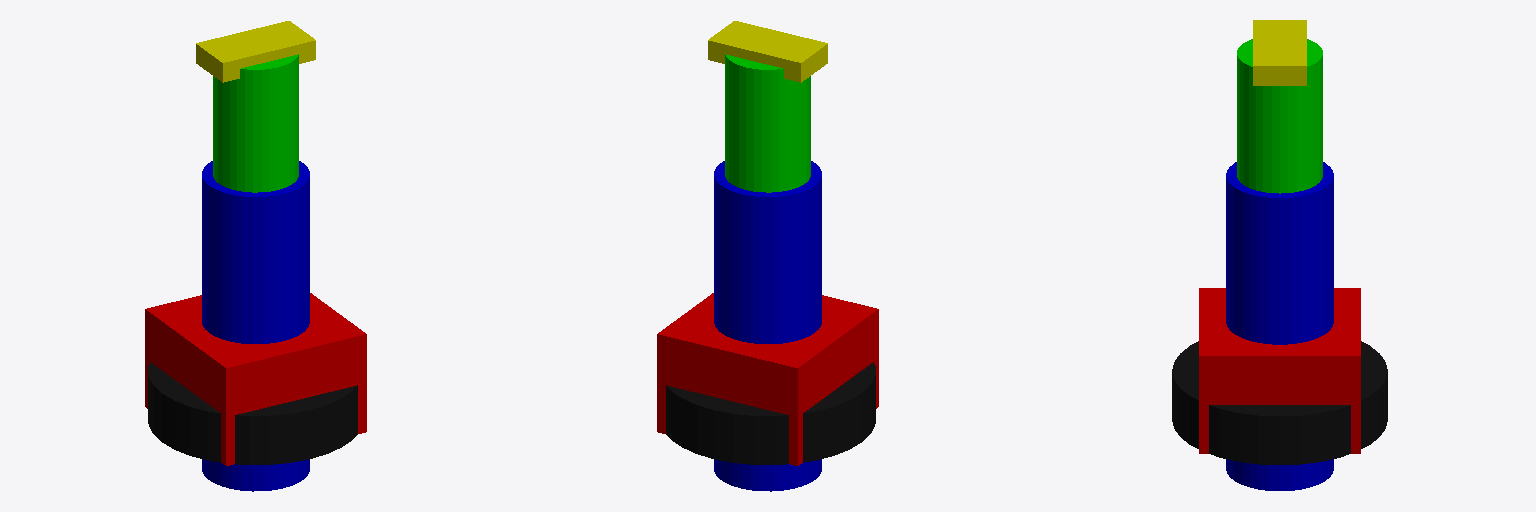
URDF robot description (5dof_robotic_arm):
<?xml version="1.0"?>
<robot name="5dof_robotic_arm">

  <!-- BASE (Rotates) -->
  <link name="base_link">
    <visual>
      <geometry>
        <cylinder radius="0.1" length="0.05"/>
      </geometry>
      <material name="black">
        <color rgba="0.1 0.1 0.1 1"/>
      </material>
    </visual>
    <collision>
      <geometry>
        <cylinder radius="0.1" length="0.05"/>
      </geometry>
    </collision>
    <inertial>
      <mass value="2.0"/>
      <inertia ixx="0.01" ixy="0" ixz="0" iyy="0.01" iyz="0" izz="0.01"/>
    </inertial>
  </link>

  <!-- JOINT 1: Base Rotation -->
  <joint name="base_joint" type="revolute">
    <parent link="base_link"/>
    <child link="joint1_link"/>
    <axis xyz="0 0 1"/> <!-- Z-axis rotation -->
    <limit lower="-3.14" upper="3.14" effort="10" velocity="1.0"/>
    <origin xyz="0 0 0.025" rpy="0 0 0"/>
  </joint>

  <!-- JOINT 1 LINK -->
  <link name="joint1_link">
    <visual>
      <geometry>
        <box size="0.15 0.15 0.1"/>
      </geometry>
      <material name="red">
        <color rgba="0.8 0 0 1"/>
      </material>
    </visual>
    <collision>
      <geometry>
        <box size="0.15 0.15 0.1"/>
      </geometry>
    </collision>
    <inertial>
      <mass value="0.5"/>
      <inertia ixx="0.001" ixy="0" ixz="0" iyy="0.001" iyz="0" izz="0.001"/>
    </inertial>
  </link>

  <!-- JOINT 2: Shoulder -->
  <joint name="joint2" type="revolute">
    <parent link="joint1_link"/>
    <child link="joint2_link"/>
    <axis xyz="0 1 0"/> <!-- Y-axis rotation -->
    <limit lower="-1.57" upper="1.57" effort="10" velocity="1.0"/>
    <origin xyz="0 0 0.05" rpy="0 0 0"/>
  </joint>

  <!-- JOINT 2 LINK -->
  <link name="joint2_link">
    <visual>
      <geometry>
        <cylinder radius="0.05" length="0.3"/>
      </geometry>
      <material name="blue">
        <color rgba="0 0 0.8 1"/>
      </material>
    </visual>
    <collision>
      <geometry>
        <cylinder radius="0.05" length="0.3"/>
      </geometry>
    </collision>
    <inertial>
      <mass value="0.8"/>
      <inertia ixx="0.005" ixy="0" ixz="0" iyy="0.005" iyz="0" izz="0.005"/>
    </inertial>
  </link>

  <!-- JOINT 3: Elbow -->
  <joint name="joint3" type="revolute">
    <parent link="joint2_link"/>
    <child link="joint3_link"/>
    <axis xyz="0 1 0"/> <!-- Y-axis rotation -->
    <limit lower="-1.57" upper="1.57" effort="10" velocity="1.0"/>
    <origin xyz="0 0 0.15" rpy="0 0 0"/>
  </joint>

  <!-- JOINT 3 LINK -->
  <link name="joint3_link">
    <visual>
      <geometry>
        <cylinder radius="0.04" length="0.25"/>
      </geometry>
      <material name="green">
        <color rgba="0 0.8 0 1"/>
      </material>
    </visual>
    <collision>
      <geometry>
        <cylinder radius="0.04" length="0.25"/>
      </geometry>
    </collision>
    <inertial>
      <mass value="0.6"/>
      <inertia ixx="0.003" ixy="0" ixz="0" iyy="0.003" iyz="0" izz="0.003"/>
    </inertial>
  </link>

  <!-- END EFFECTOR JOINT -->
  <joint name="end_effector_joint" type="revolute">
    <parent link="joint3_link"/>
    <child link="end_effector"/>
    <axis xyz="0 0 1"/> <!-- Z-axis rotation -->
    <limit lower="-3.14" upper="3.14" effort="5" velocity="0.5"/>
    <origin xyz="0 0 0.125" rpy="0 0 0"/>
  </joint>

  <!-- END EFFECTOR -->
  <link name="end_effector">
    <visual>
      <geometry>
        <box size="0.1 0.05 0.02"/>
      </geometry>
      <material name="yellow">
        <color rgba="0.8 0.8 0 1"/>
      </material>
    </visual>
    <collision>
      <geometry>
        <box size="0.1 0.05 0.02"/>
      </geometry>
    </collision>
    <inertial>
      <mass value="0.2"/>
      <inertia ixx="0.0001" ixy="0" ixz="0" iyy="0.0001" iyz="0" izz="0.0001"/>
    </inertial>
  </link>

</robot>

--- Facts derived from the render (not from the file) ---
The picture shows the robot from 3 angles, left to right: view 1: azimuth 30°, elevation 25°; view 2: azimuth 150°, elevation 25°; view 3: azimuth 270°, elevation 25°; orthographic projection.
Robot: 5dof_robotic_arm — 5 links, 4 joints (4 revolute); root link base_link; default pose: all joints at 0.
Links seen in each view (by area): view 1: joint2_link, joint1_link, base_link, joint3_link, end_effector; view 2: joint2_link, joint1_link, base_link, joint3_link, end_effector; view 3: joint2_link, joint1_link, base_link, joint3_link, end_effector.
Link boxes in pixels (x1,y1,x2,y2): joint2_link: [202, 161, 309, 491]; joint1_link: [145, 293, 366, 465]; base_link: [148, 362, 357, 464]; joint3_link: [213, 54, 298, 192]; end_effector: [196, 21, 315, 82]; joint2_link: [714, 161, 821, 491]; joint1_link: [657, 293, 878, 465]; base_link: [666, 362, 875, 464]; joint3_link: [725, 54, 810, 192]; end_effector: [708, 21, 827, 82]; joint2_link: [1226, 162, 1333, 490]; joint1_link: [1199, 288, 1360, 453]; base_link: [1172, 341, 1387, 464]; joint3_link: [1237, 39, 1322, 193]; end_effector: [1253, 20, 1306, 85].
Size in the robot's own frame: 0.2 by 0.2 by 0.435 metres.
Geometry: primitives only (box / cylinder / sphere), no mesh files.
